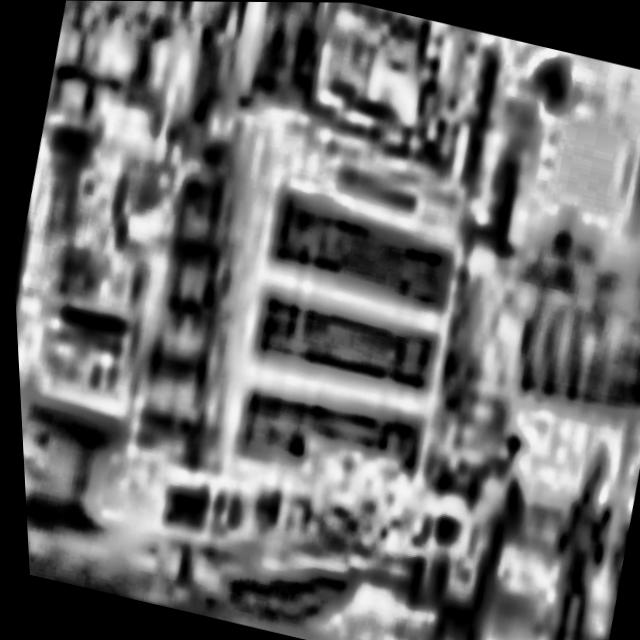dump_truck: (0, 0, 609, 640)
